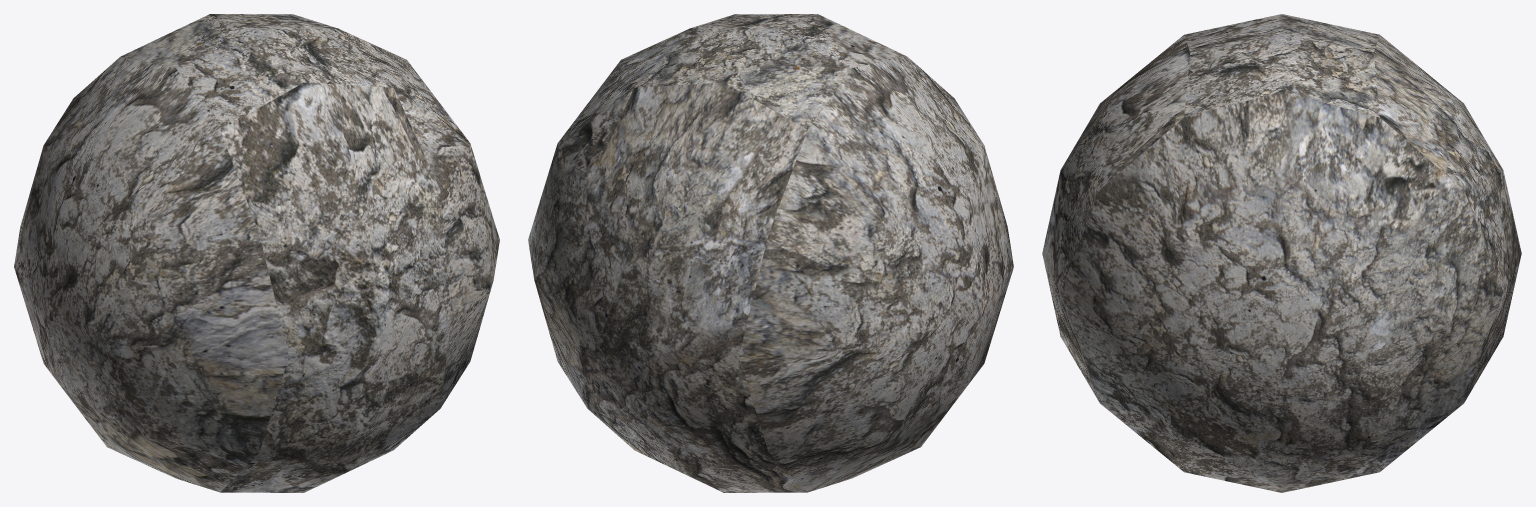
Rendered from rock.FBX.
3 views of the same model, side by side, from view 1: azimuth 30°, elevation 25°; view 2: azimuth 150°, elevation 25°; view 3: azimuth 270°, elevation 25° (orthographic). The views are drawn at different scales.
Parts seen in each view (by area): view 1: GeoSphere001; view 2: GeoSphere001; view 3: GeoSphere001.
Boxes of the visible parts, <box> form: GeoSphere001: <box>14,14,499,492</box>; GeoSphere001: <box>528,14,1013,492</box>; GeoSphere001: <box>1042,14,1521,492</box>.
Size of the model in its own units: 67.35 by 67.35 by 67.35.
Materials: 1 (1 with a texture image).
